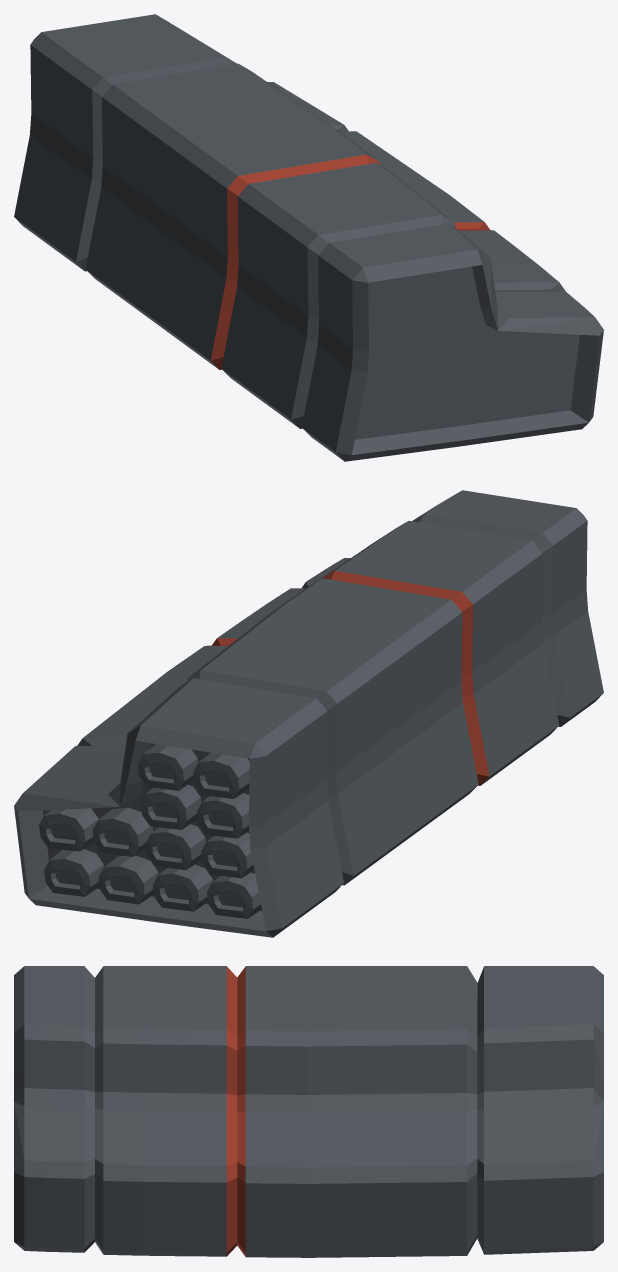
File: Mothership_02_Wing_Right_Red.fbx
3 views of the same model, one above another, from view 1: azimuth 30°, elevation 25°; view 2: azimuth 150°, elevation 25°; view 3: azimuth 270°, elevation 25° (orthographic). The views are drawn at different scales.
Parts seen in each view (by area): view 1: Mothership_02_Wing_Right_Red; view 2: Mothership_02_Wing_Right_Red; view 3: Mothership_02_Wing_Right_Red.
Part boxes in pixels (x1,y1,x2,y2): Mothership_02_Wing_Right_Red: (14,14,603,461); Mothership_02_Wing_Right_Red: (14,490,603,937); Mothership_02_Wing_Right_Red: (14,966,603,1257).
Bounding box in the file's own units: 902 × 652 × 1832.
Materials: 2 (2 with a texture image).
